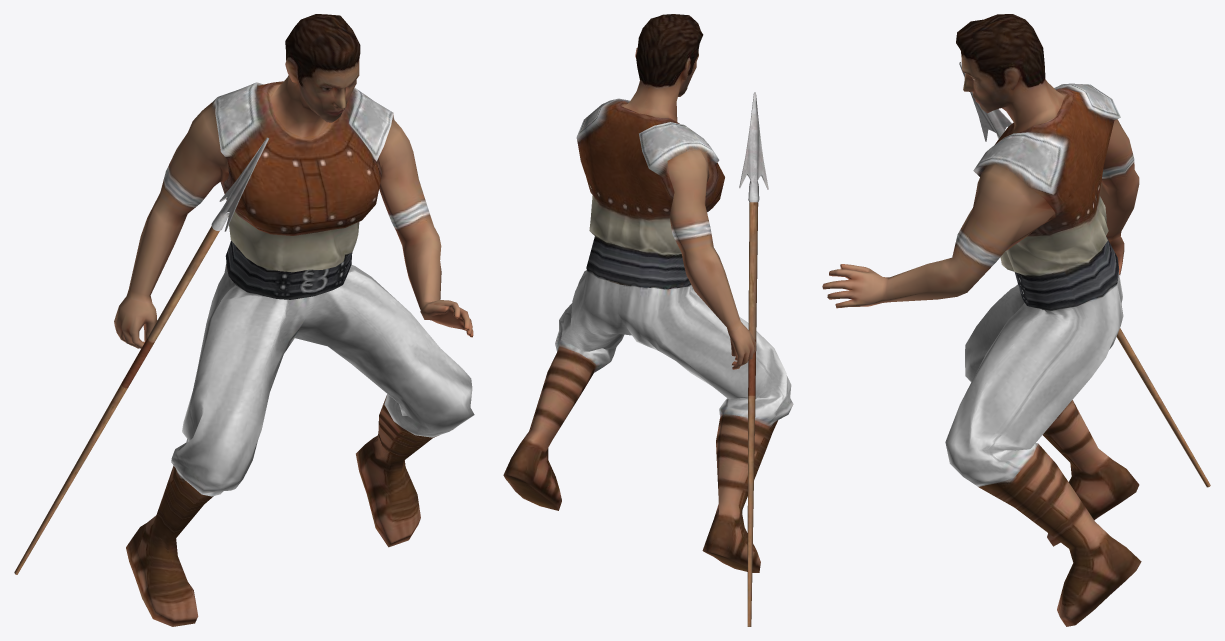
File: rider-slice-base.glb
The picture shows the model from 3 angles, left to right: view 1: azimuth 30°, elevation 25°; view 2: azimuth 150°, elevation 25°; view 3: azimuth 270°, elevation 25°; orthographic projection. The views are drawn at different scales.
Bounding box in the file's own units: 1.14 × 1.93 × 1.17.
Materials: 2 (2 with a texture image).
